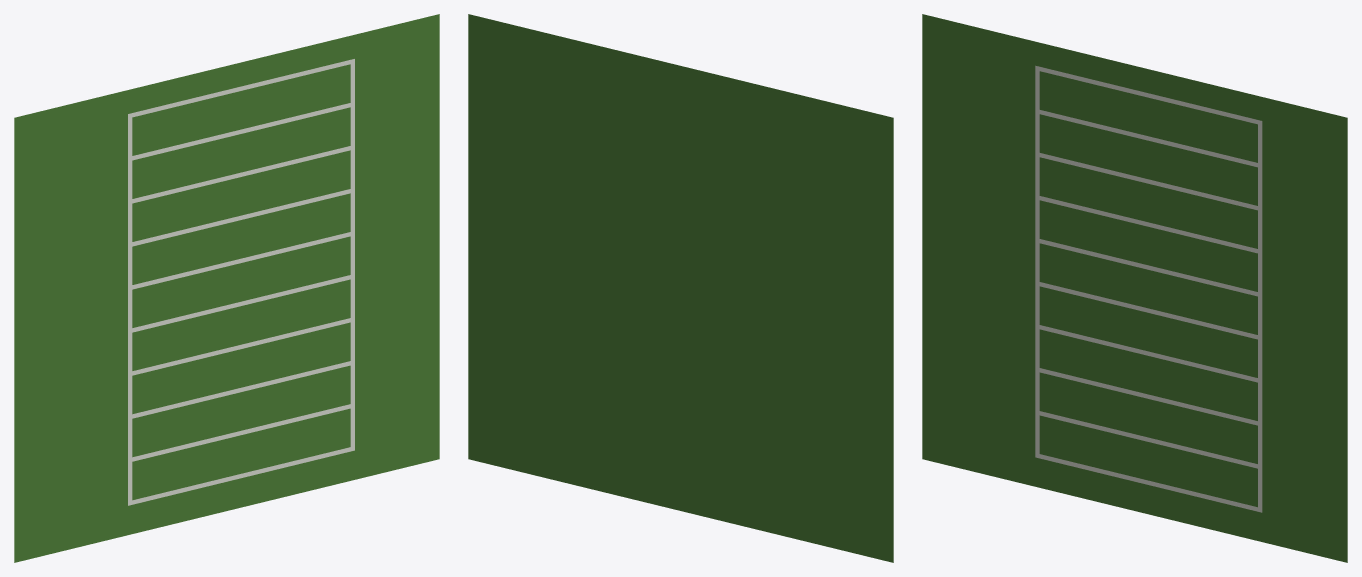
File: construction_0.glb
3 renders of one model, left to right at view 1: azimuth 30°, elevation 25°; view 2: azimuth 150°, elevation 25°; view 3: azimuth 330°, elevation 25°, orthographic.
Visible parts, largest first — view 1: construction_0; view 2: construction_0; view 3: construction_0.
Boxes of the visible parts, box(x1,y1,x2,y2) form: construction_0: box(14, 14, 439, 562); construction_0: box(468, 14, 893, 562); construction_0: box(922, 14, 1347, 562).
Size of the model in its own units: 30 by 30 by 0.04.
